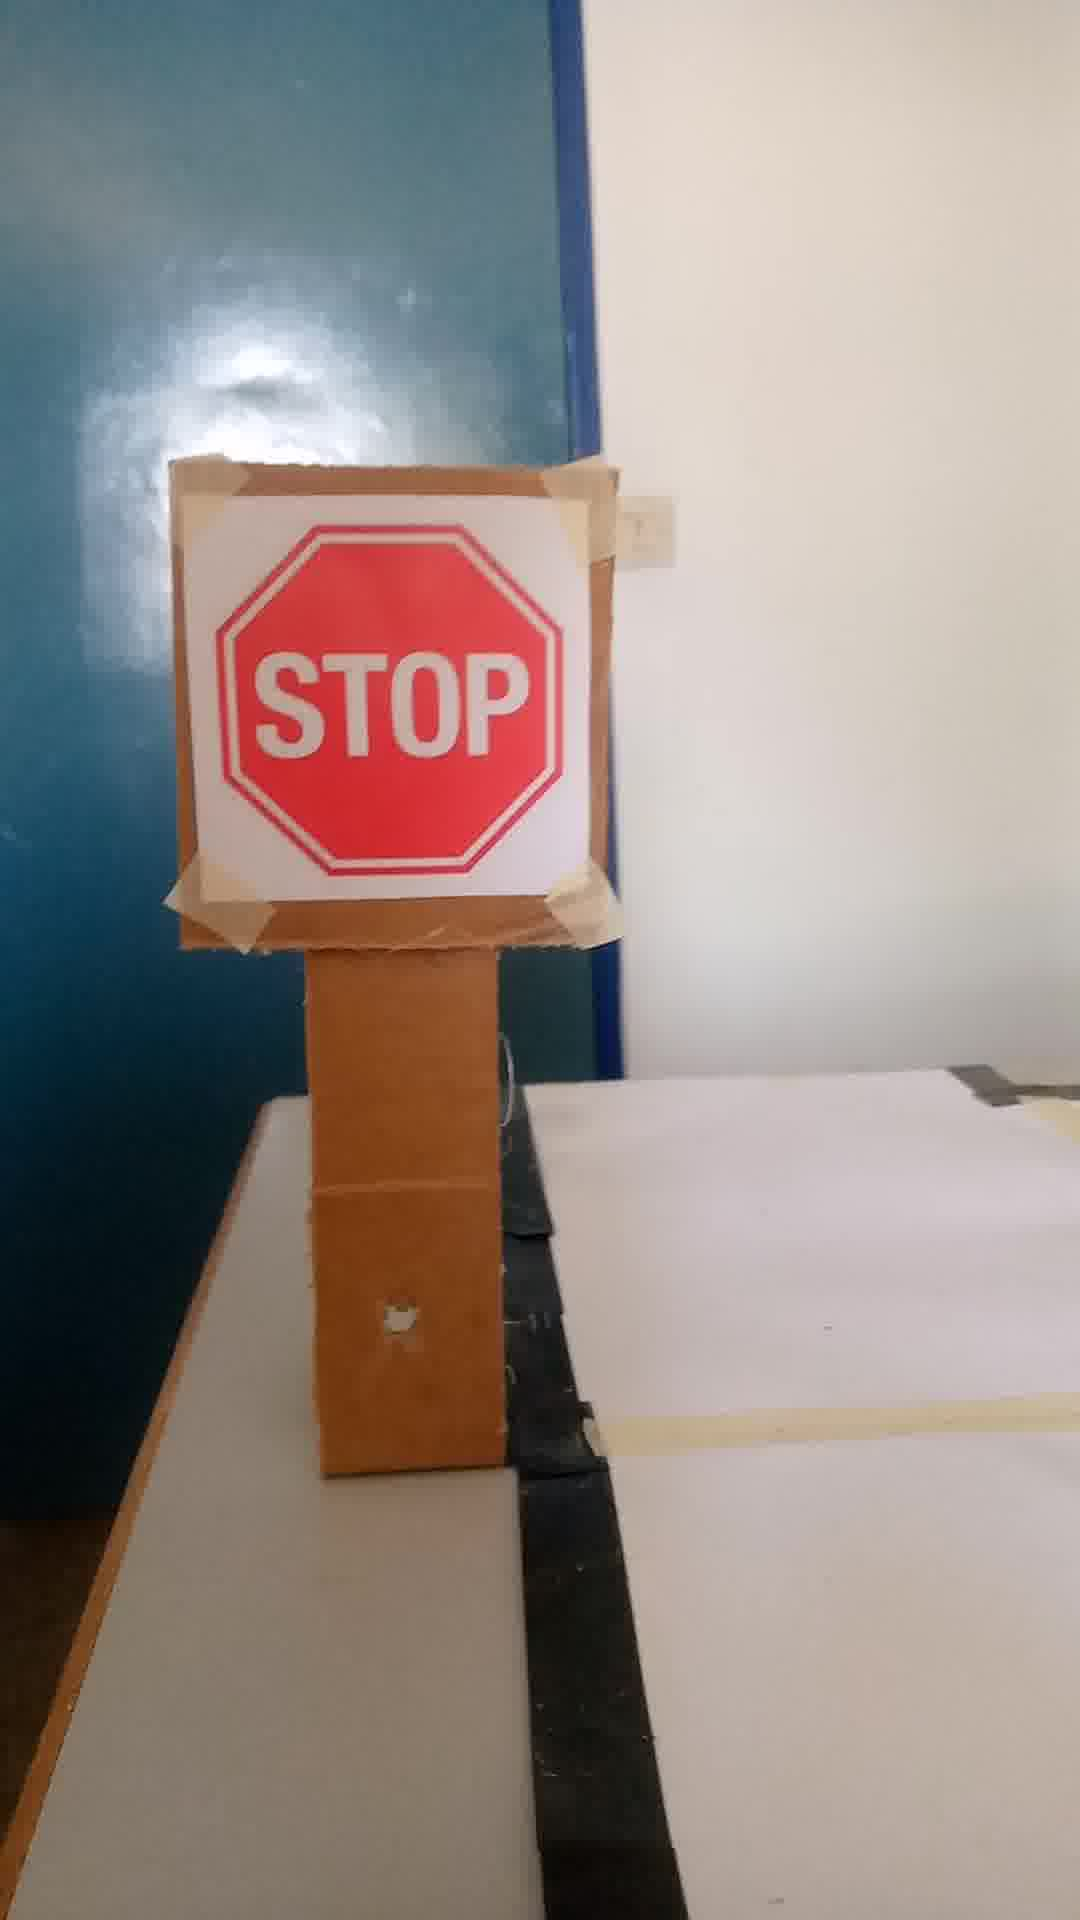panel101: (170, 483, 595, 914)
